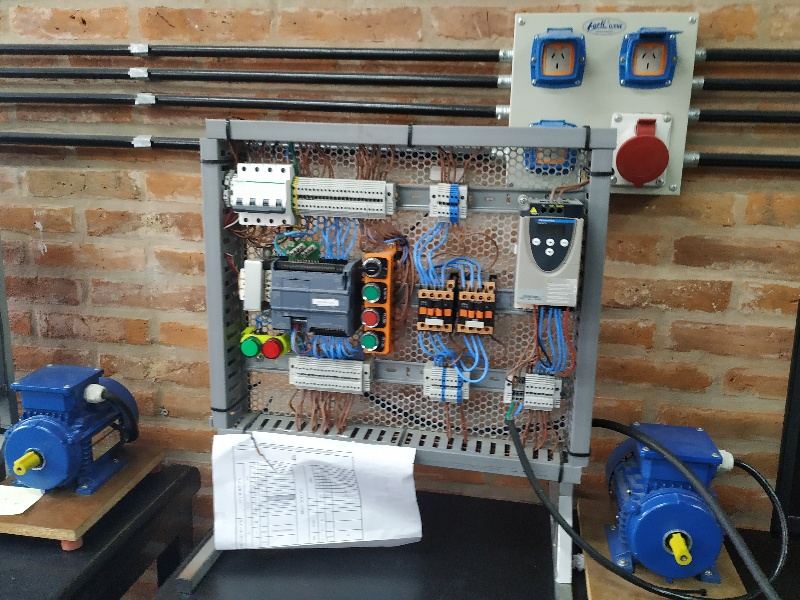Tablero 4: (213, 129, 589, 471)
